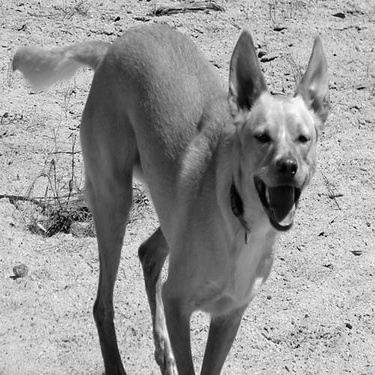dog: (3, 21, 341, 372)
